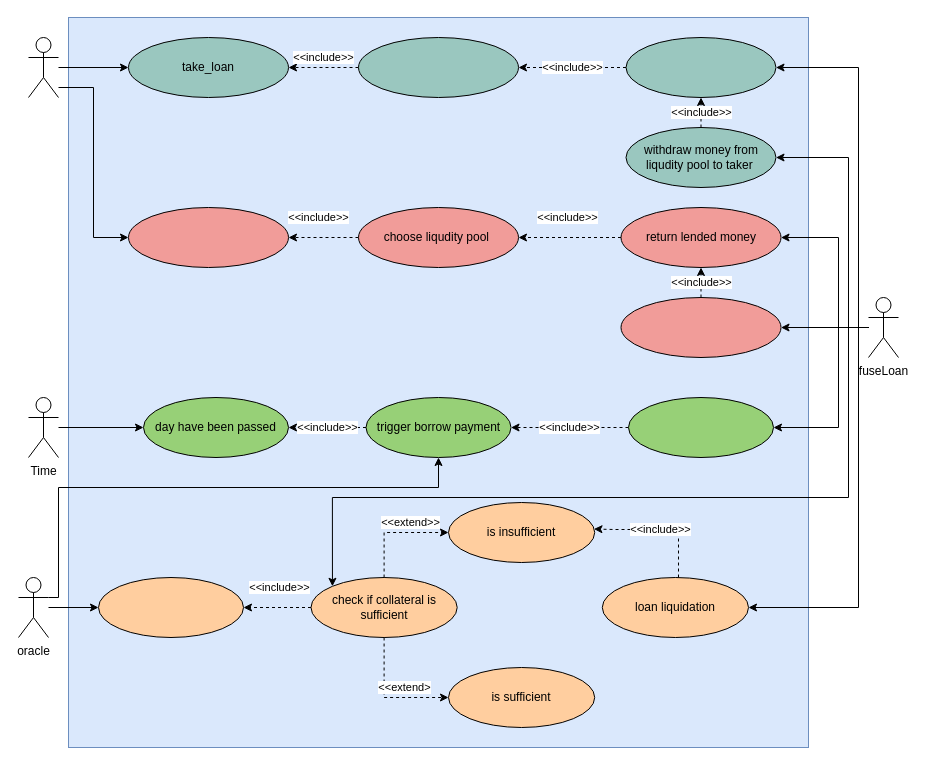
This 925x765 diagram has some shape labels left out. The centre of each missing label's shape, as x and y in pixels:
choose liqudity pool && amount: pixel 438 67
collateral: pixel 700 67
crypto price update: pixel 171 607
receive collateral: pixel 700 327
redeem collateral: pixel 208 237
taker: pixel 43 67
trigger borrow payment (collateral -> fuseLoan): pixel 701 427
